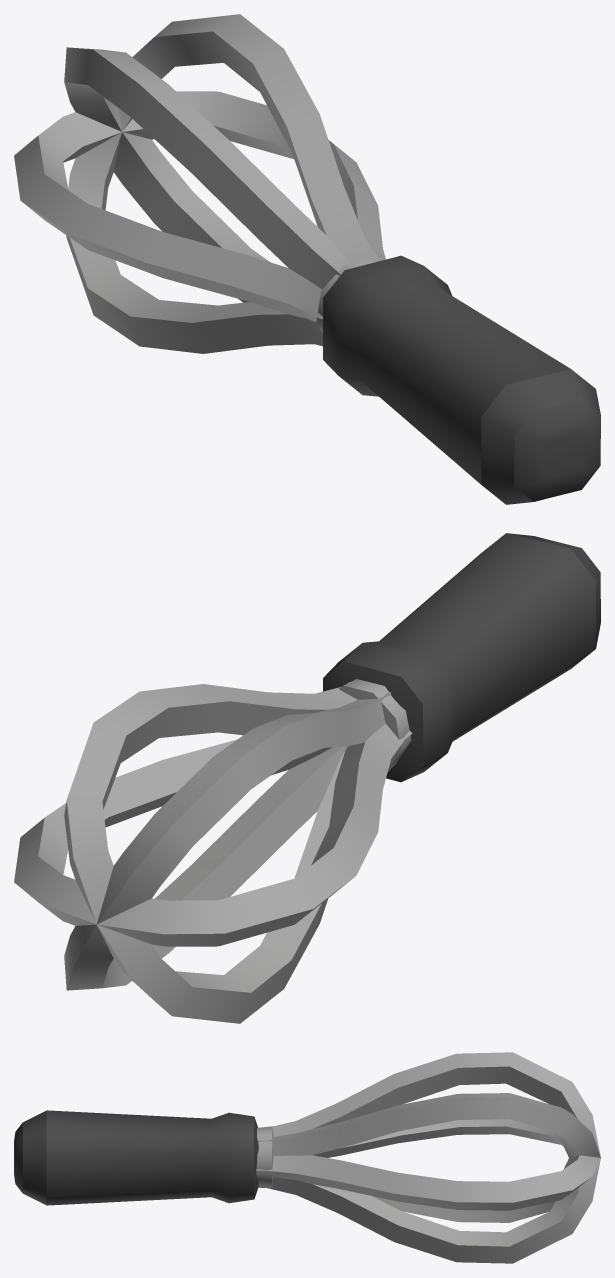
The model's file is Whisk_v01.fbx.
3 views of the same model, one above another, from view 1: azimuth 30°, elevation 25°; view 2: azimuth 150°, elevation 25°; view 3: azimuth 270°, elevation 25° (orthographic). The views are drawn at different scales.
Visible parts, largest first — view 1: Whisk_v01; view 2: Whisk_v01; view 3: Whisk_v01.
Part boxes in pixels (x1,y1,x2,y2): Whisk_v01: (14, 14, 600, 504); Whisk_v01: (14, 533, 600, 1023); Whisk_v01: (14, 1052, 600, 1263).
Size of the model in its own units: 16.29 by 14.11 by 45.07.
